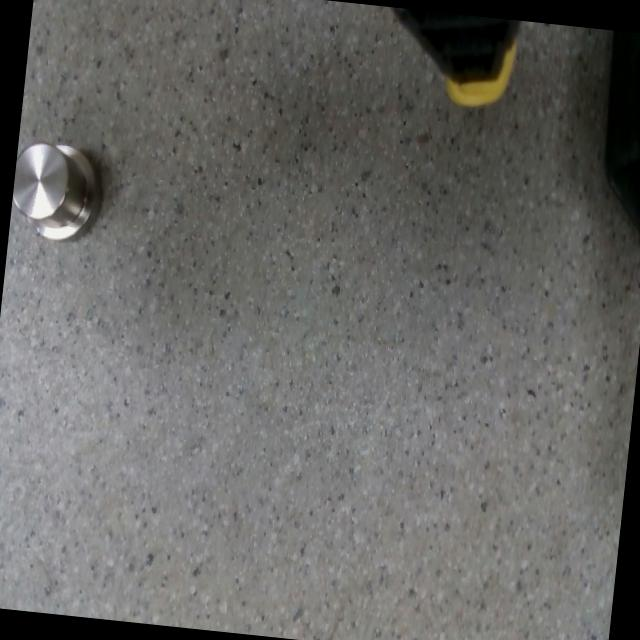sensor: (7, 136, 108, 246)
